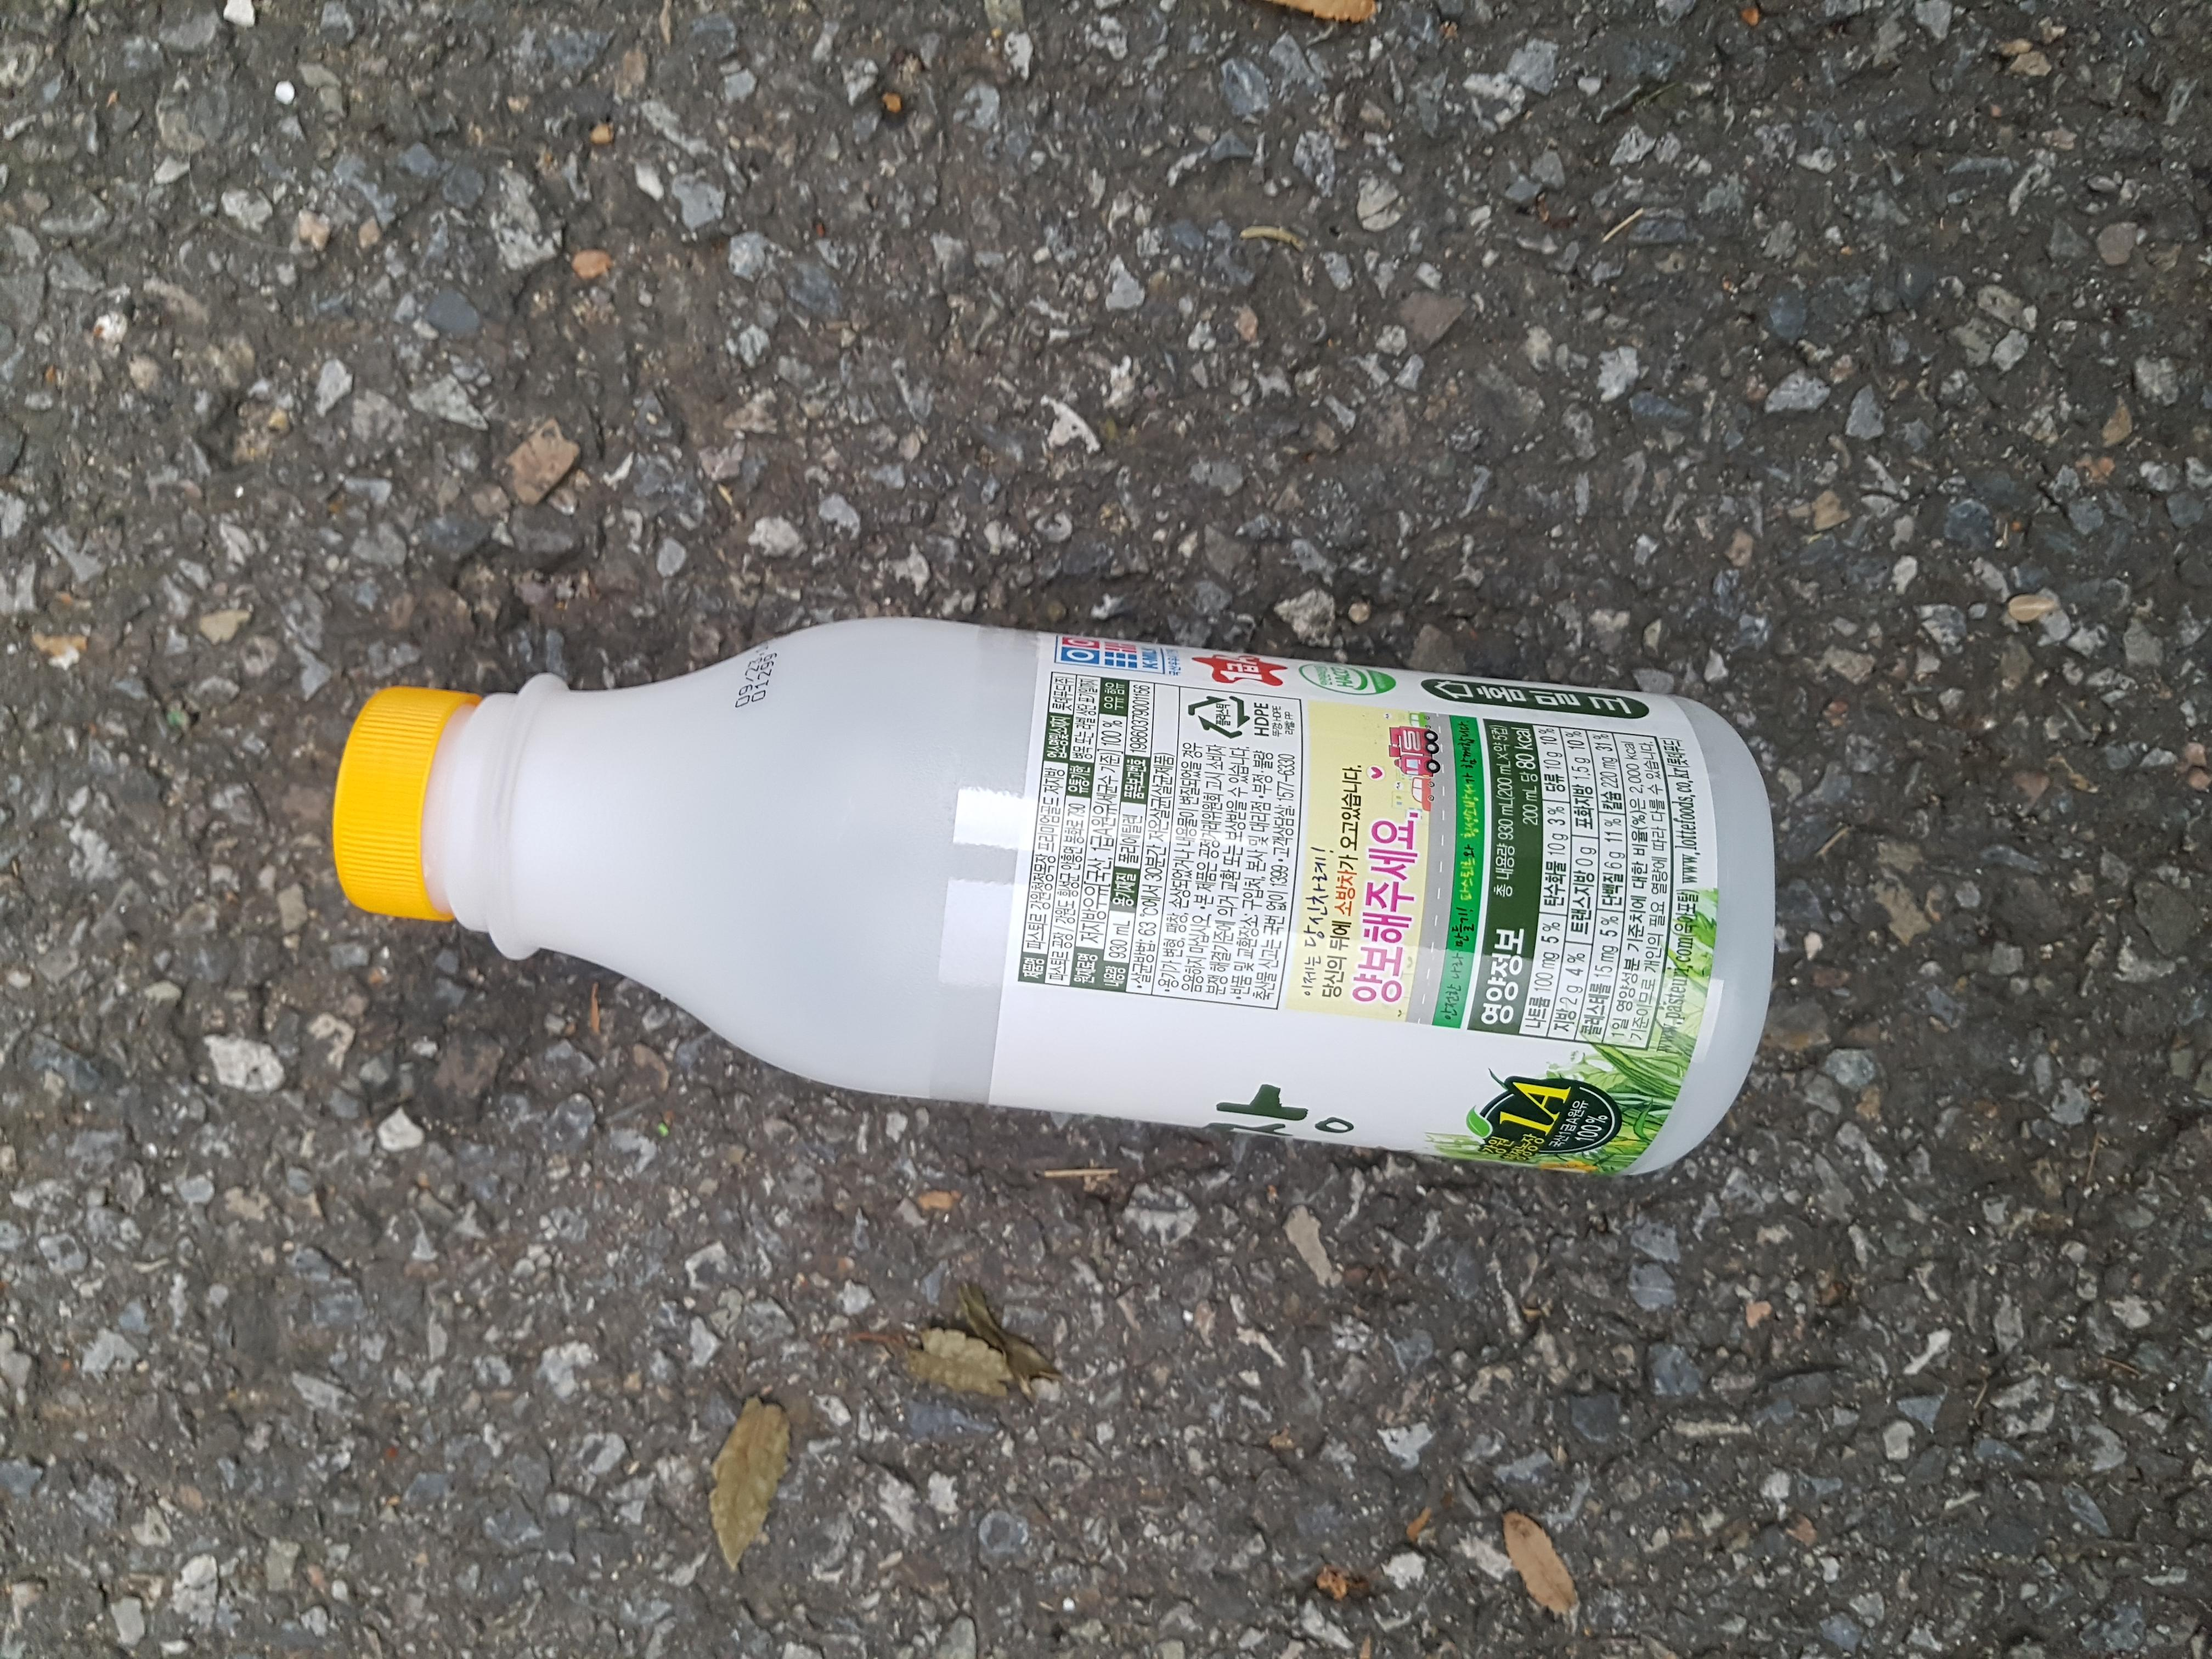bottle: (502, 33, 1301, 1298)
